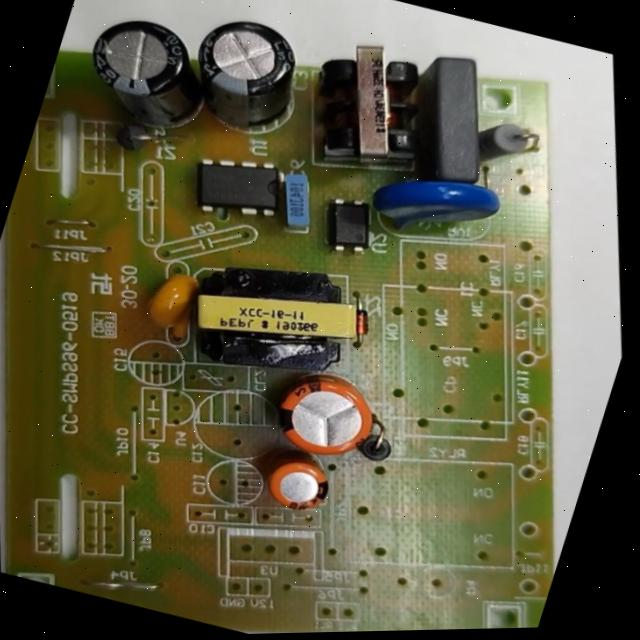Cap1: (240, 342, 407, 482)
Cap2: (228, 424, 355, 533)
Cap3: (148, 0, 346, 169)
Cap4: (41, 0, 245, 170)
MOSFET: (166, 127, 308, 243)
Mov: (331, 137, 528, 275)
Resistor: (452, 98, 556, 184)
Transformer: (153, 222, 399, 412), (267, 11, 467, 196)
